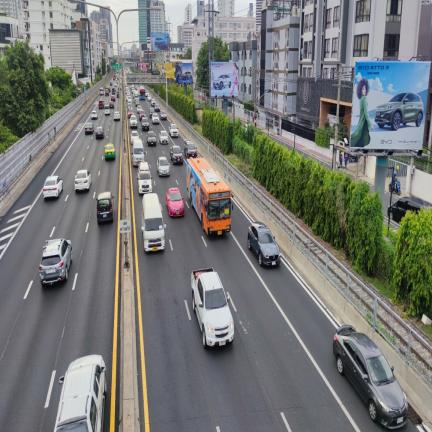bus: (187, 158, 231, 234), (140, 87, 145, 100)
car: (332, 325, 408, 428), (55, 355, 106, 431), (375, 92, 424, 130), (39, 239, 72, 284), (248, 222, 280, 265), (388, 197, 432, 221), (97, 191, 114, 223), (137, 163, 152, 194), (43, 176, 63, 199), (74, 170, 91, 191), (212, 74, 231, 89), (170, 145, 183, 164), (184, 139, 197, 157), (157, 157, 169, 176), (154, 37, 168, 50), (146, 131, 156, 146), (181, 71, 192, 82), (168, 124, 178, 136), (159, 130, 168, 143), (131, 131, 139, 145), (84, 123, 94, 134), (95, 127, 104, 139), (142, 117, 149, 130), (130, 115, 137, 127), (152, 113, 159, 124), (113, 111, 120, 121), (91, 110, 98, 119), (160, 110, 167, 119), (139, 110, 145, 120), (134, 97, 140, 106), (104, 105, 110, 114), (128, 108, 133, 118), (136, 104, 142, 112), (99, 100, 104, 109), (149, 108, 154, 117), (147, 95, 152, 103), (109, 101, 114, 108), (111, 87, 116, 94), (155, 104, 160, 111), (151, 99, 155, 107), (128, 104, 133, 110), (126, 91, 130, 97), (111, 95, 115, 101), (127, 97, 131, 103), (105, 89, 109, 95), (116, 91, 119, 98), (109, 82, 112, 85)
human: (350, 78, 373, 146), (230, 62, 238, 96), (344, 153, 348, 169), (339, 152, 343, 168)
motorbike: (388, 178, 401, 195)
pickup: (192, 268, 234, 348)
taxi: (166, 188, 184, 215), (105, 144, 115, 160)
van: (141, 193, 166, 251), (132, 139, 144, 166), (100, 88, 103, 95)
